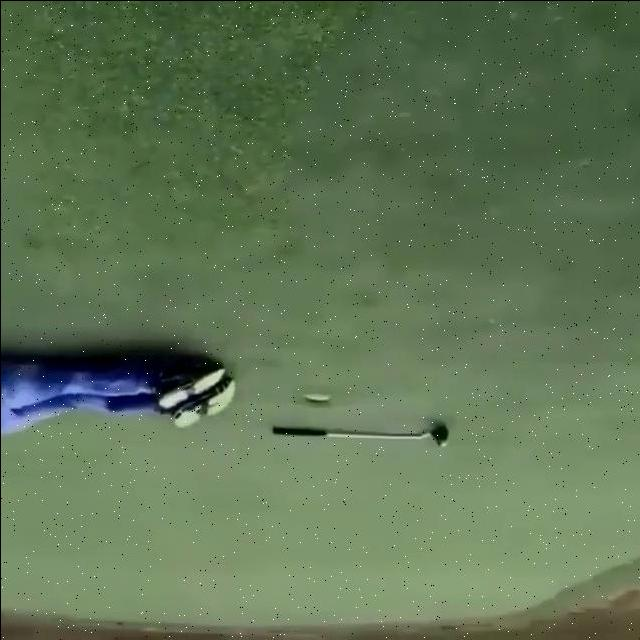golf club-handle: (272, 425, 448, 445)
golf club-head: (429, 425, 448, 445)
